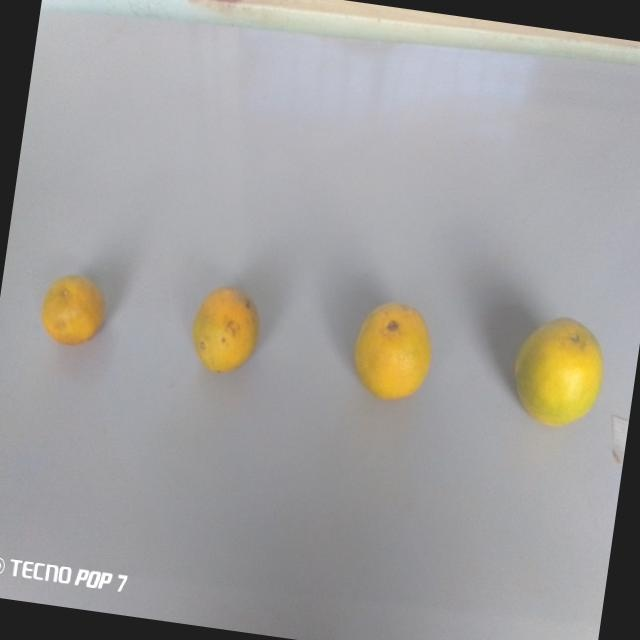agrume: (500, 308, 616, 436), (344, 292, 444, 411), (182, 278, 266, 384), (33, 263, 115, 357)
